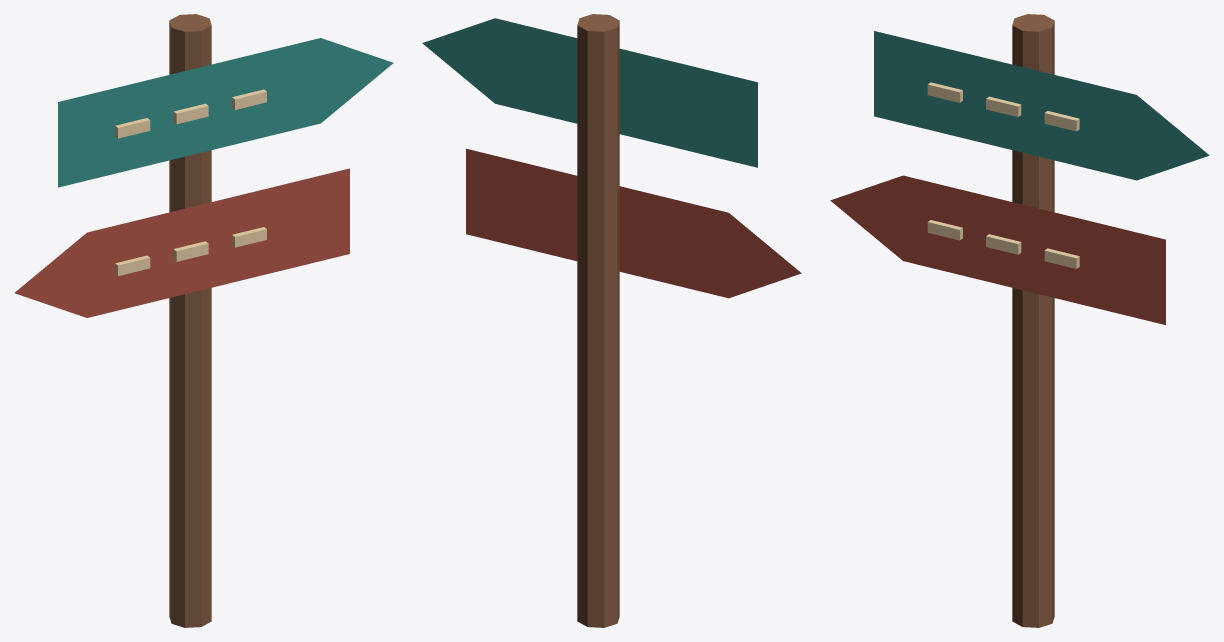
Rendered from signpost.glb.
3 renders of one model, left to right at view 1: azimuth 30°, elevation 25°; view 2: azimuth 150°, elevation 25°; view 3: azimuth 330°, elevation 25°, orthographic.
Visible parts, largest first — view 1: arrow, arrow.001, post; view 2: post, arrow.001, arrow; view 3: arrow, arrow.001, post.
Boxes of the visible parts, x1,y1,x2,y2 form: arrow: (58,38,393,187); arrow.001: (14,168,349,317); post: (169,14,211,627); post: (577,14,619,627); arrow.001: (466,148,801,298); arrow: (422,18,757,167); arrow: (874,31,1209,180); arrow.001: (830,175,1165,324); post: (1012,14,1054,627).
Size of the model in its own units: 1.3 by 1.95 by 0.164.
